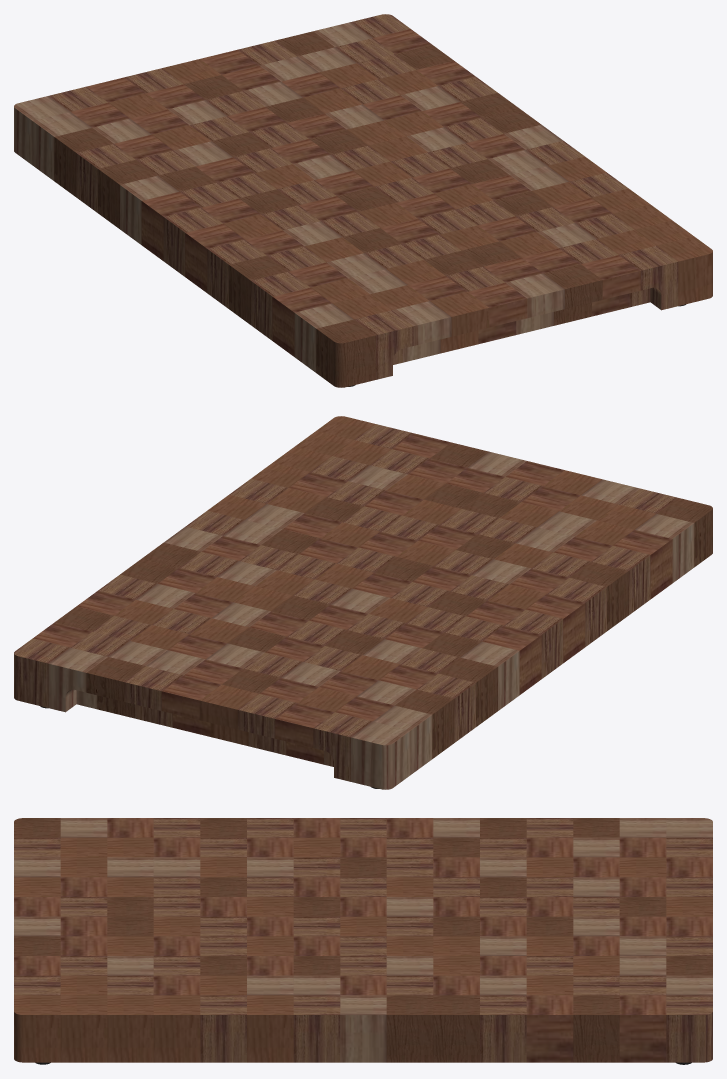
File: butcher-block-l.glb
3 views of the same model, one above another, from view 1: azimuth 30°, elevation 25°; view 2: azimuth 150°, elevation 25°; view 3: azimuth 270°, elevation 25° (orthographic). The views are drawn at different scales.
Bounding box in the file's own units: 0.4 × 0.0551 × 0.6.
Materials: 7 (6 with a texture image).
